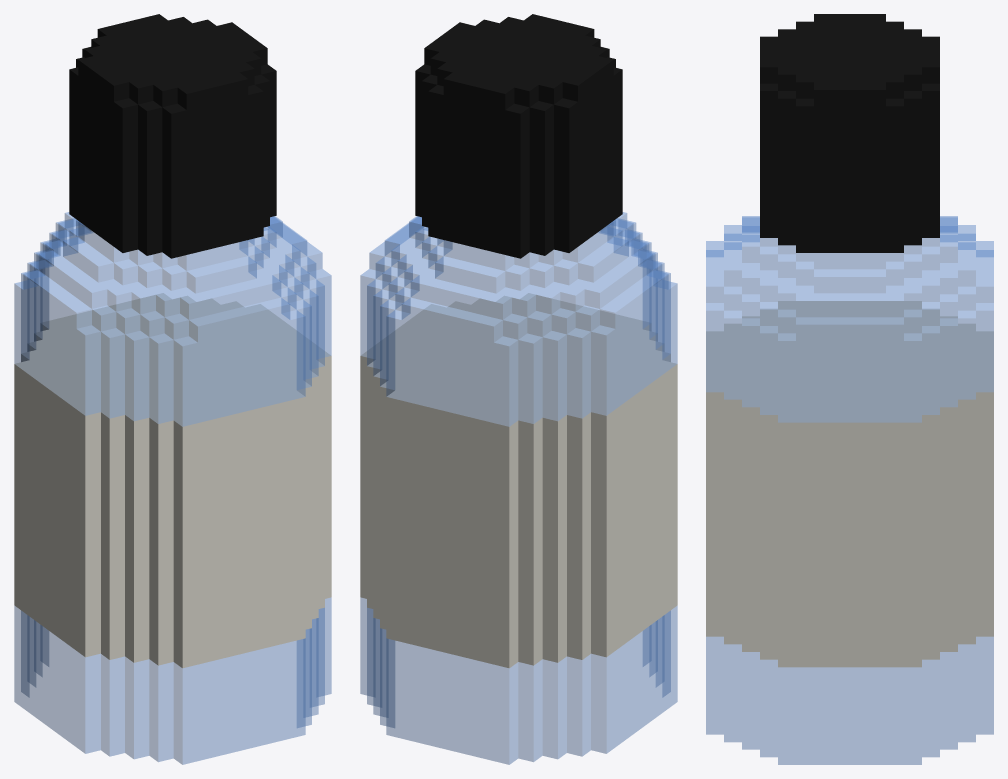
The model's file is thyme_oil.glb.
3 views of the same model, side by side, from view 1: azimuth 30°, elevation 25°; view 2: azimuth 150°, elevation 25°; view 3: azimuth 270°, elevation 25° (orthographic).
Parts seen in each view (by area): view 1: thyme_oil:compound; view 2: thyme_oil:compound; view 3: thyme_oil:compound.
Boxes of the visible parts, bbox=[...] form: thyme_oil:compound: bbox=[14, 14, 331, 764]; thyme_oil:compound: bbox=[360, 14, 677, 764]; thyme_oil:compound: bbox=[706, 14, 993, 764].
Size of the model in its own units: 0.032 by 0.08 by 0.032.
